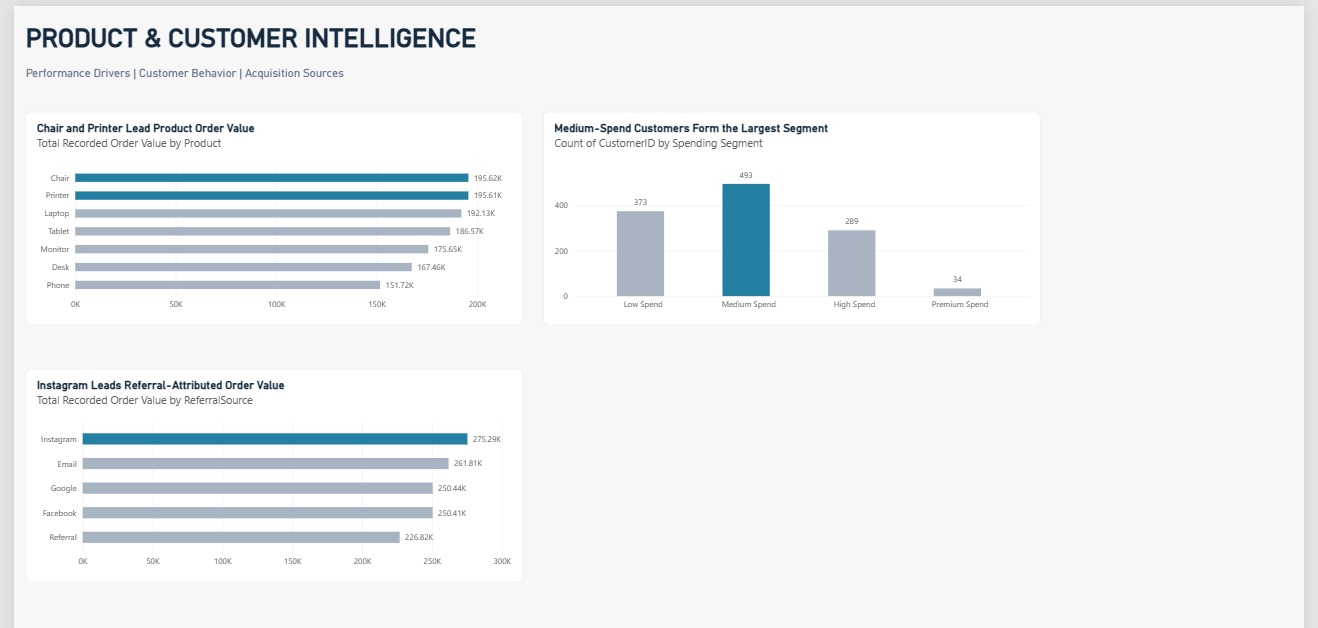

Layout of this report page (visuals, bound fields, positions):
{"tool":"powerbi","page":{"name":"Product & Customer Intelligence","canvas":[1920,1080],"ordinal":1},"visuals":[{"type":"clusteredBarChart","title":"Chair and Printer Lead Product Order Value","fields":{"Category":["Orders.Product"],"Y":["Orders.Total Recorded Order Value"]},"box":[17.5,157.5,740,317.5],"z":0},{"type":"textbox","box":[17.5,25,805,65],"z":1000},{"type":"textbox","box":[17.5,90,522.5,35],"z":2000},{"type":"clusteredColumnChart","title":"Medium-Spend Customers Form the Largest Segment","fields":{"Category":["Customer Summary.Spending Segment"],"Y":["Count(Customer Summary.CustomerID)"]},"box":[787.5,157.5,740,317.5],"z":3000},{"type":"clusteredBarChart","title":"Instagram Leads Referral-Attributed Order Value","fields":{"Category":["Orders.ReferralSource"],"Y":["Orders.Total Recorded Order Value"]},"box":[17.5,540,740,317.5],"z":4000}]}

Visuals, with their boxes on the page's 1920x1080 design canvas (x1, y1, x2, y2). These are canvas units, not pixel positions in the 1318x628 screenshot, which may show the page scaled, cropped or inside an application window:
"Chair and Printer Lead Product Order Value" clusteredBarChart: bbox=(18, 158, 758, 475)
textbox: bbox=(18, 25, 822, 90)
textbox: bbox=(18, 90, 540, 125)
"Medium-Spend Customers Form the Largest Segment" clusteredColumnChart: bbox=(788, 158, 1528, 475)
"Instagram Leads Referral-Attributed Order Value" clusteredBarChart: bbox=(18, 540, 758, 858)
